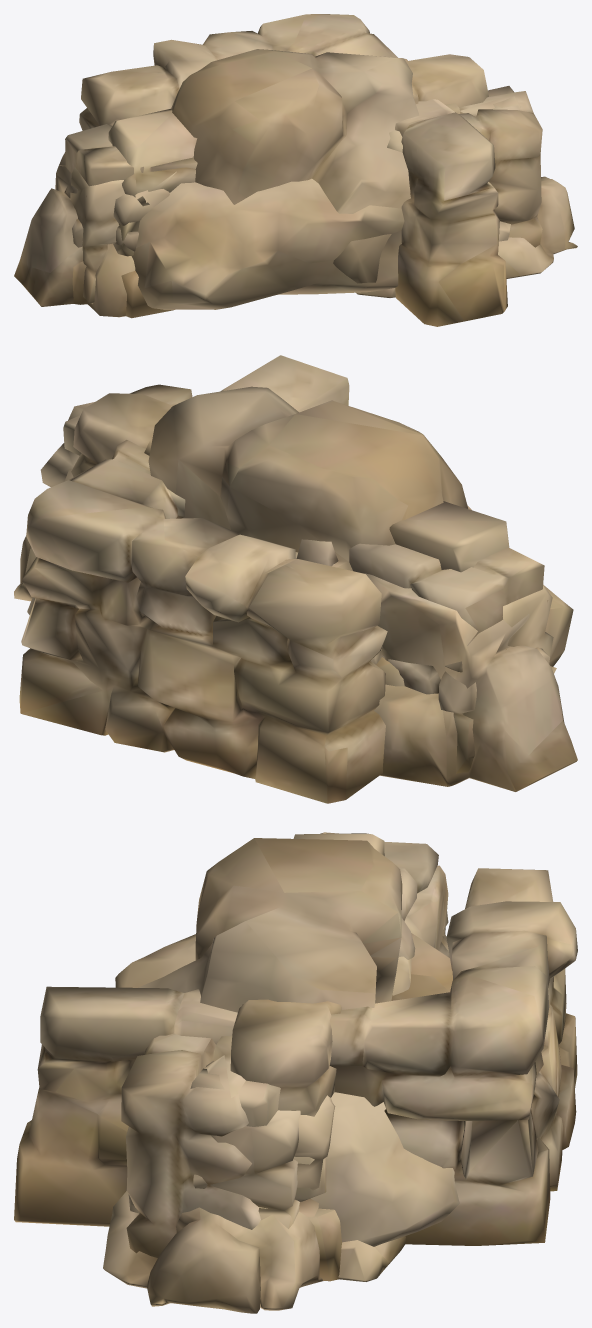
The model's file is muros_kit.glb.
The picture shows the model from 3 angles, top to bottom: view 1: azimuth 30°, elevation 25°; view 2: azimuth 150°, elevation 25°; view 3: azimuth 270°, elevation 25°; orthographic projection. The views are drawn at different scales.
Visible parts, largest first — view 1: Rocha11, Muro_Canto, Rocha12, Muro_Pilar, Rocha10, Muro_Reto3, Muro_Reto1, Muro_Reto2, Muro_Reto4; view 2: Muro_Canto, Rocha11, Muro_Pilar, Rocha10, Muro_Reto3, Muro_Reto1, Rocha12; view 3: Muro_Canto, Rocha11, Rocha10, Muro_Pilar, Rocha12, Muro_Reto3, Muro_Reto1, Muro_Reto2, Muro_Reto4.
Boxes of the visible parts, x1,y1,x2,y2 form: Rocha11: (171,49,418,283); Muro_Canto: (79,14,507,326); Rocha12: (131,178,510,309); Muro_Pilar: (14,152,577,317); Rocha10: (59,91,542,304); Muro_Reto3: (108,54,488,318); Muro_Reto1: (70,167,124,303); Muro_Reto2: (113,189,169,251); Muro_Reto4: (488,86,521,110); Muro_Canto: (19,355,387,803); Rocha11: (148,386,468,570); Muro_Pilar: (14,535,577,791); Rocha10: (68,384,549,773); Muro_Reto3: (71,393,509,572); Muro_Reto1: (40,443,556,673); Rocha12: (27,505,573,686); Muro_Canto: (14,868,577,1245); Rocha11: (138,838,452,1012); Rocha10: (121,832,449,1257); Muro_Pilar: (103,865,448,1313); Rocha12: (115,934,459,1246); Muro_Reto3: (230,833,384,1281); Muro_Reto1: (193,1110,300,1228); Muro_Reto2: (294,1095,335,1217); Muro_Reto4: (190,1061,280,1126).
Bounding box in the file's own units: 2.96 × 1.17 × 2.21.
Materials: 1 (1 with a texture image).
